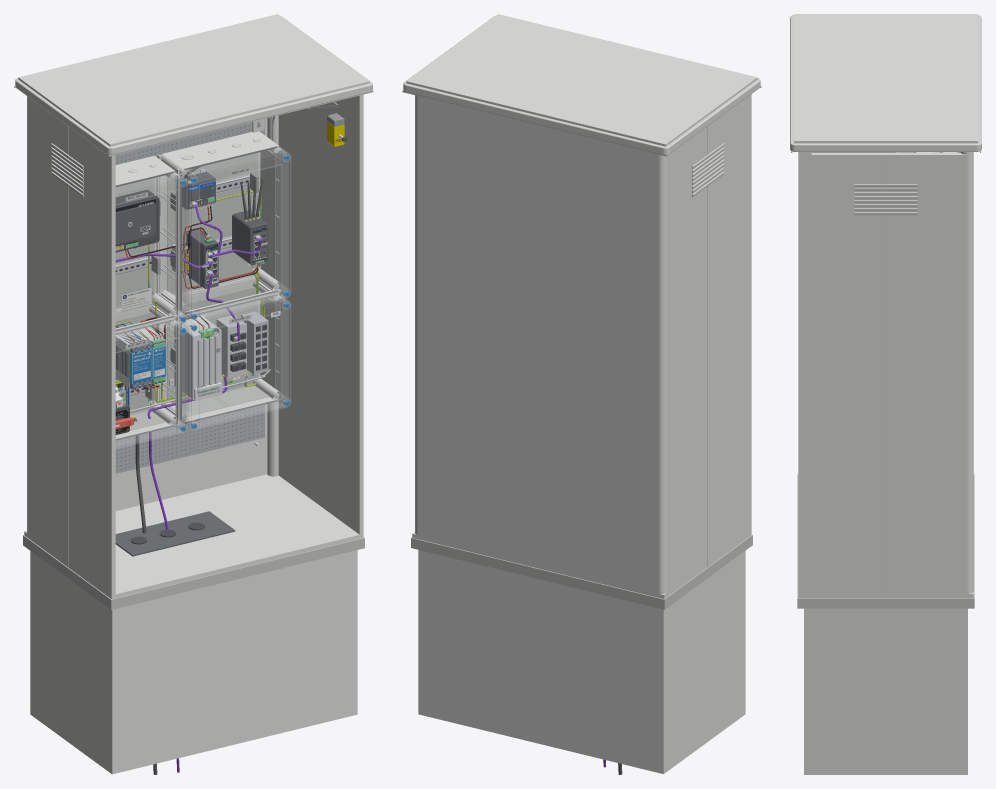
The model's file is ems.glb.
3 views of the same model, side by side, from view 1: azimuth 30°, elevation 25°; view 2: azimuth 150°, elevation 25°; view 3: azimuth 270°, elevation 25° (orthographic).
Bounding box in the file's own units: 829 × 2043 × 516.
Materials: 289 (159 with a texture image).
